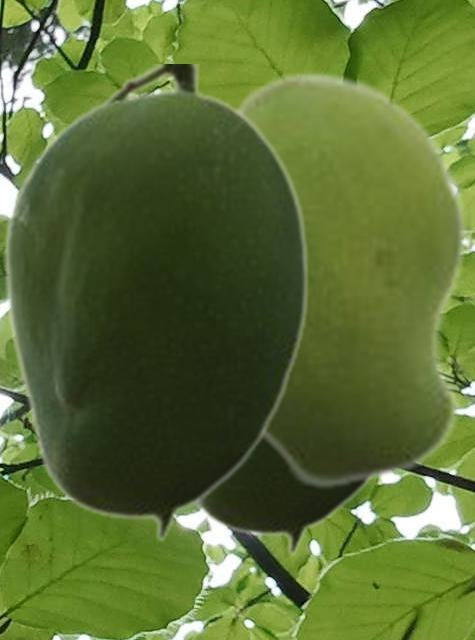green_mango: (1, 64, 308, 542), (233, 70, 468, 490), (193, 442, 372, 556)
